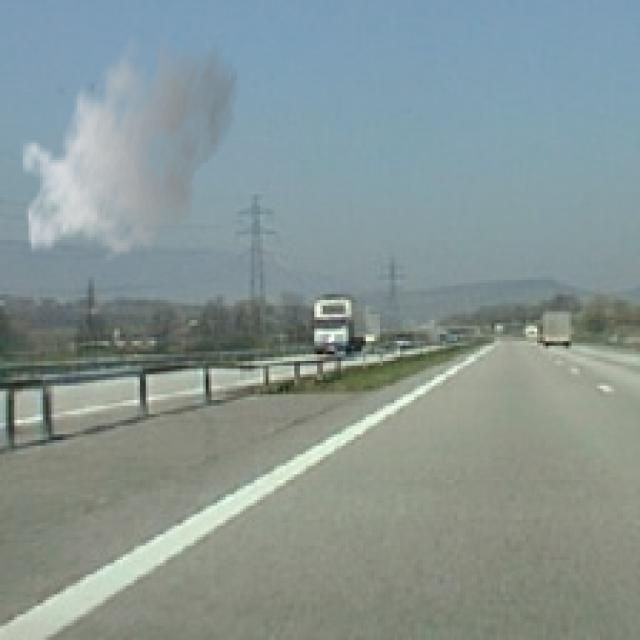Smoke: (20, 20, 240, 266)
